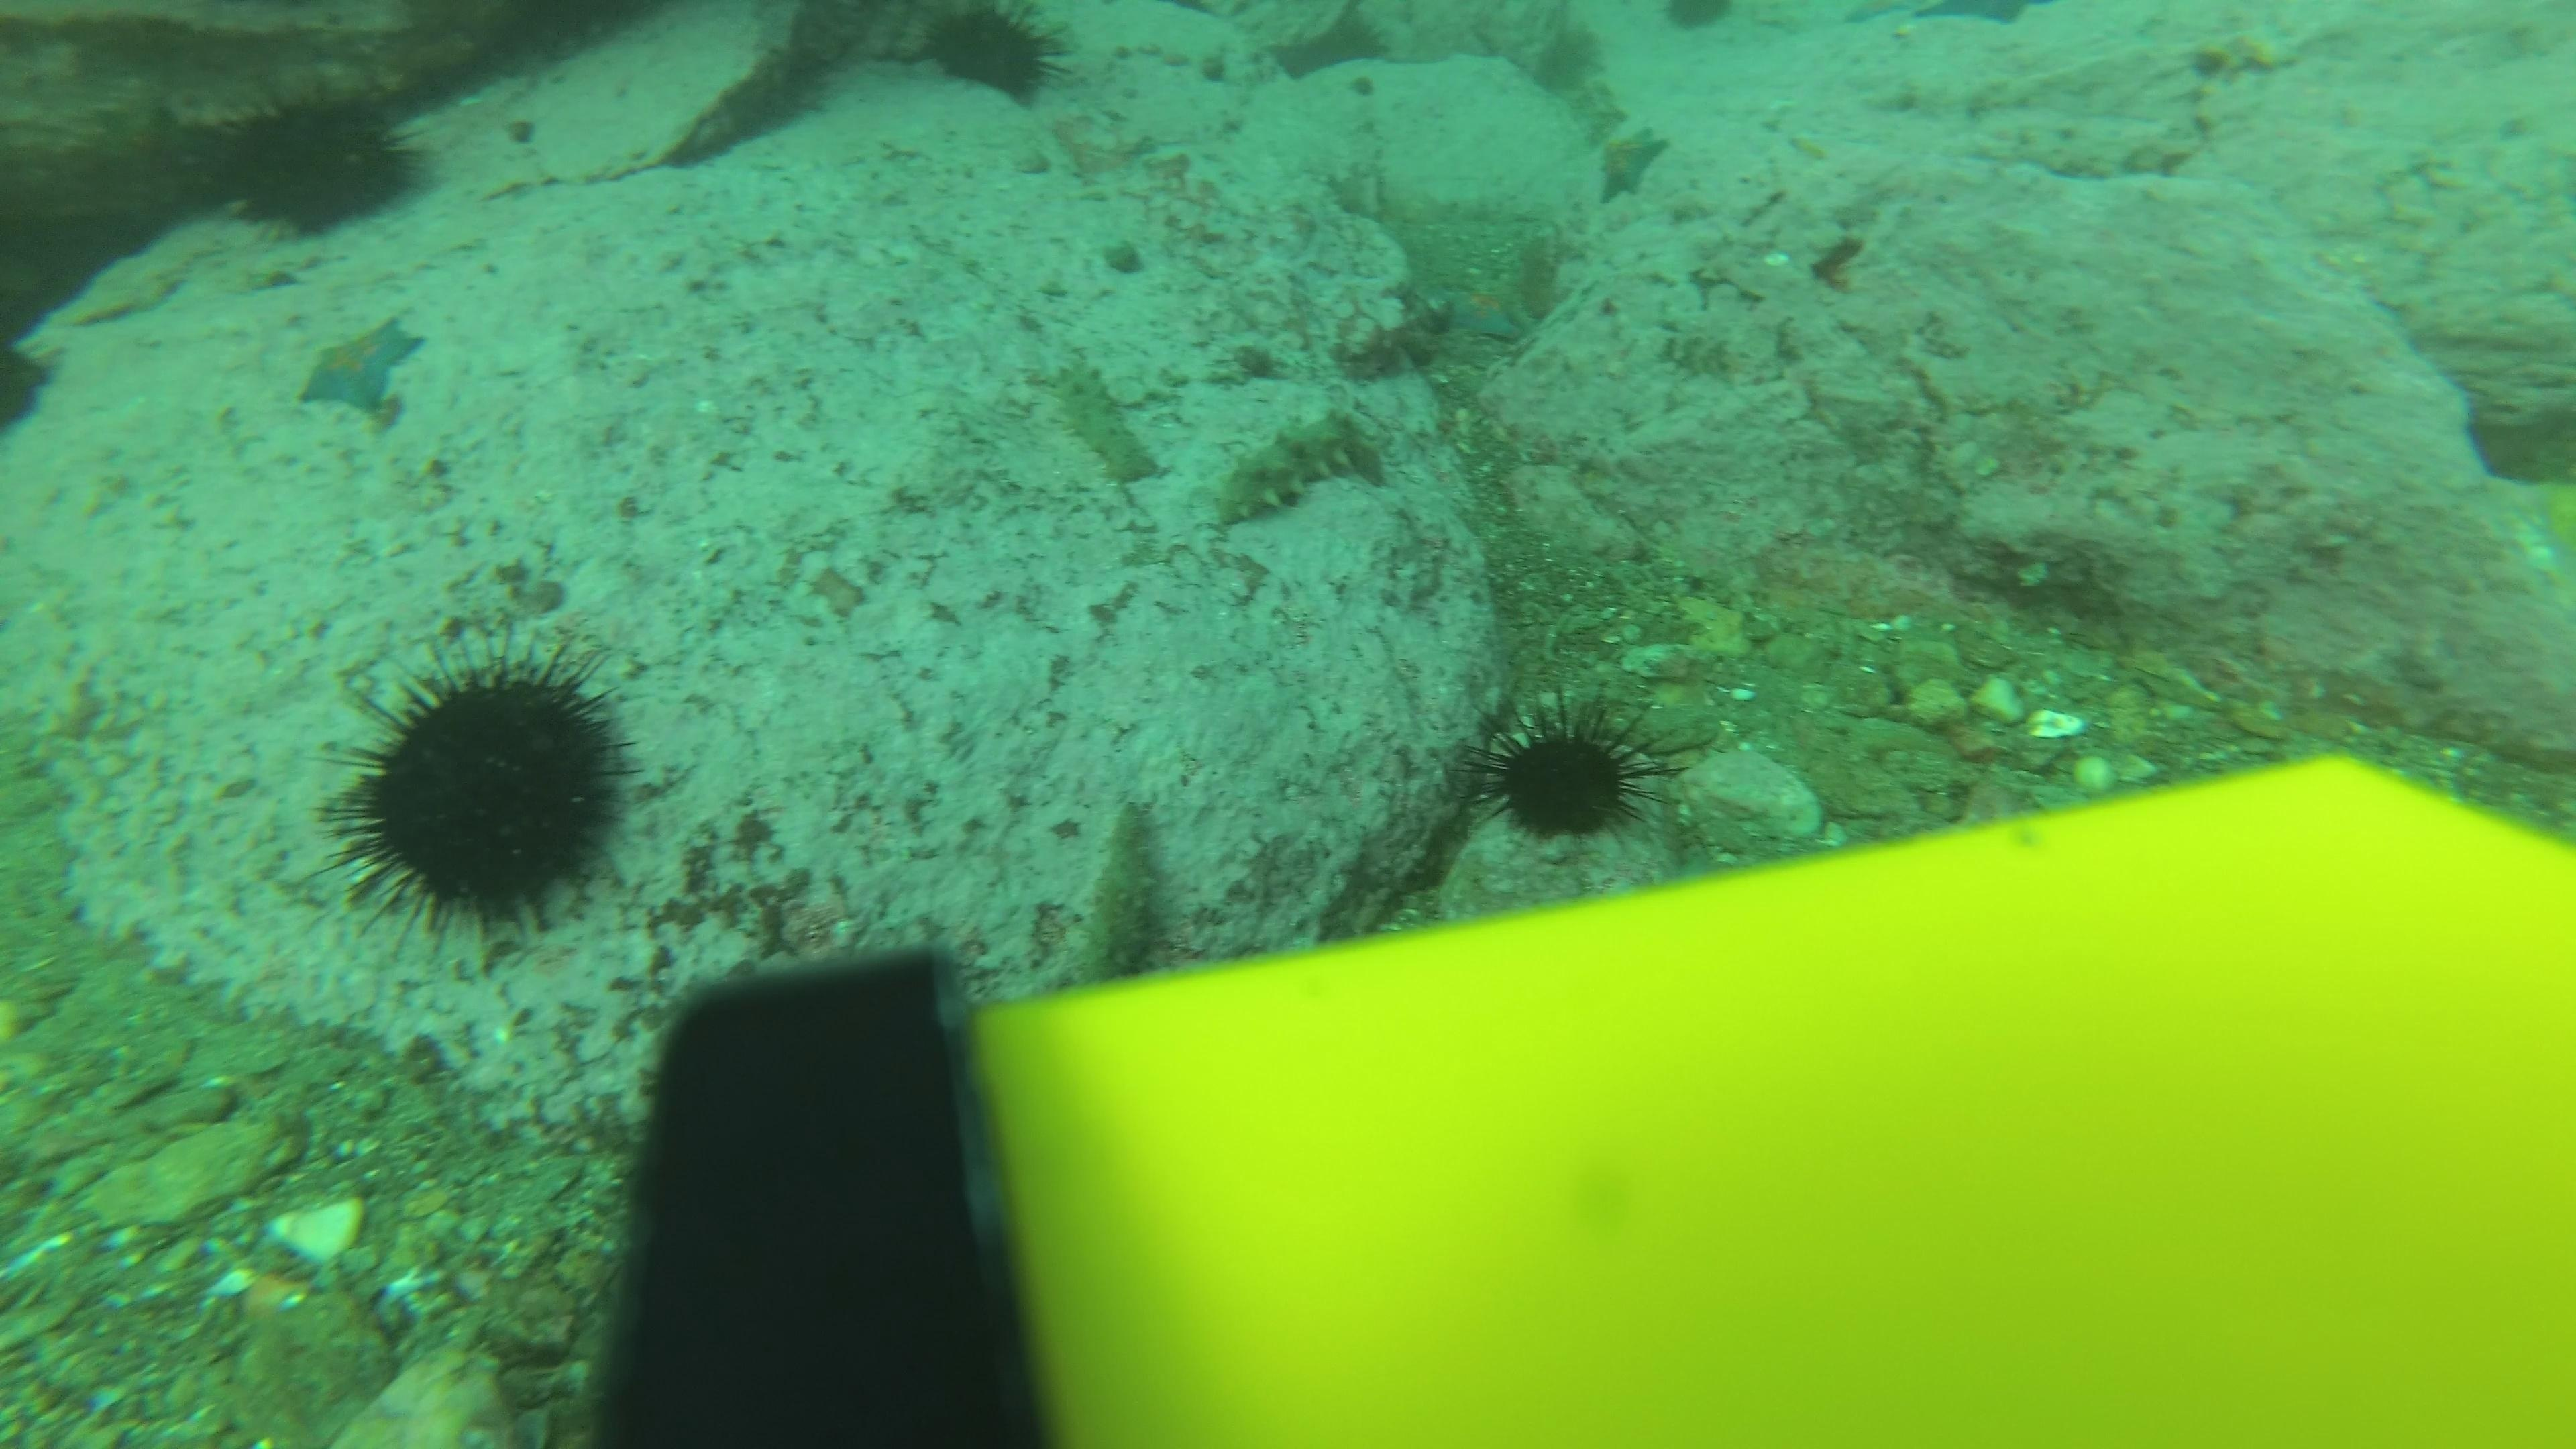echinus: (324, 633, 644, 945), (214, 81, 428, 241), (1470, 692, 1665, 847), (911, 2, 1072, 110)
holothurian: (1049, 789, 1185, 994), (1207, 402, 1391, 534), (1035, 350, 1168, 490)
starfish: (292, 311, 432, 419), (1431, 269, 1537, 347), (1587, 119, 1672, 205)
